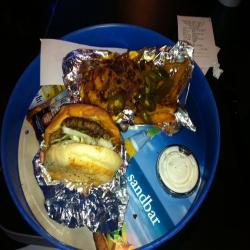burger: (36, 102, 134, 197)
